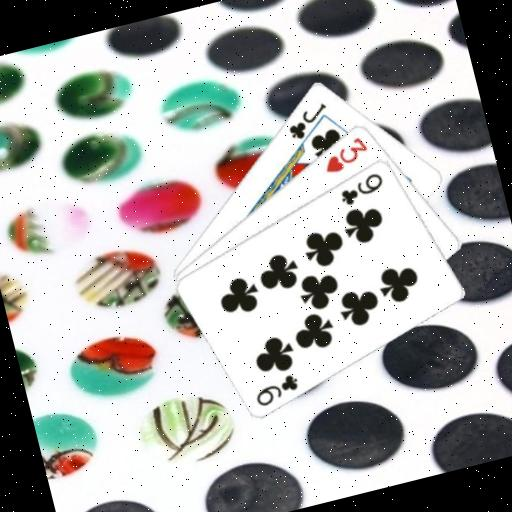3H: (316, 132, 373, 177)
9C: (333, 168, 389, 209), (249, 369, 304, 409)
JC: (281, 99, 335, 144)
